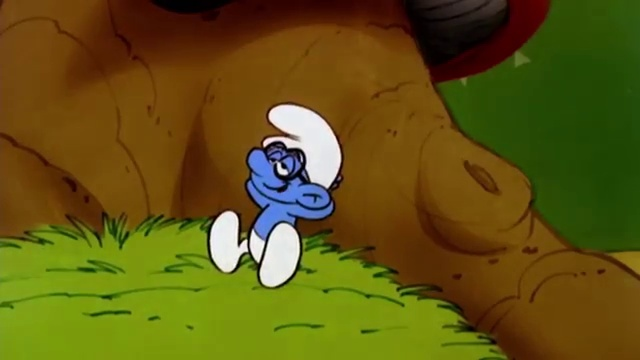smurf: (205, 101, 343, 288)
